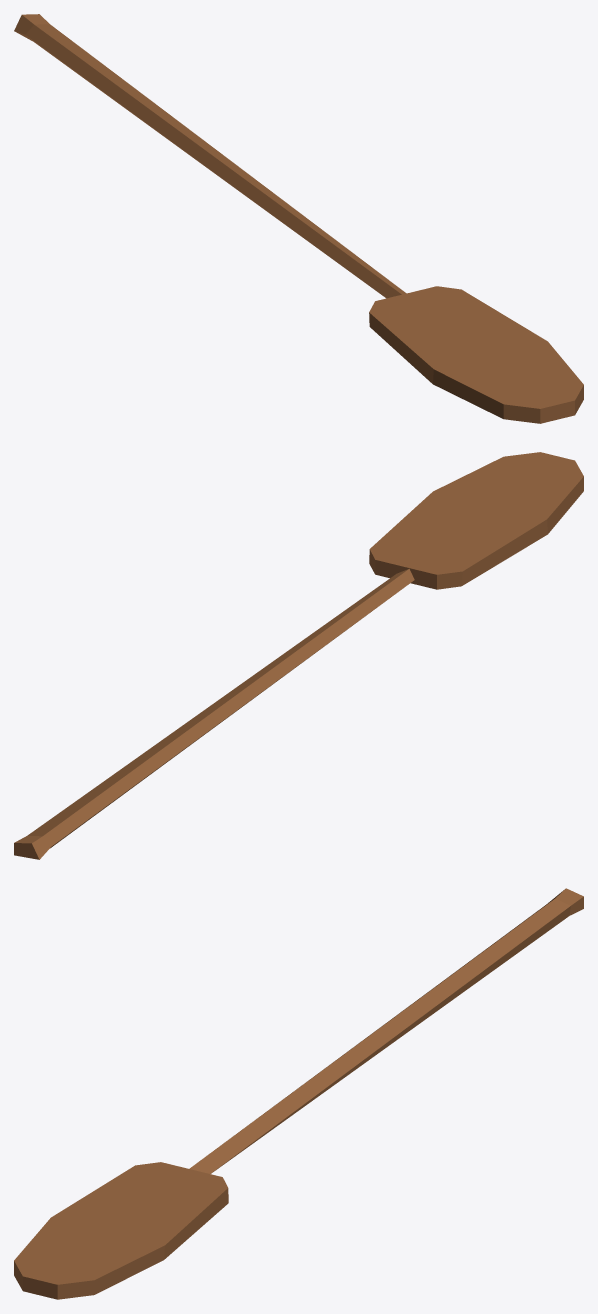
Rendered from Paddle.fbx.
3 views of the same model, one above another, from view 1: azimuth 30°, elevation 25°; view 2: azimuth 150°, elevation 25°; view 3: azimuth 330°, elevation 25° (orthographic).
Visible parts, largest first — view 1: Paddle; view 2: Paddle; view 3: Paddle.
Boxes of the visible parts, x1,y1,x2,y2 form: Paddle: (14,14,583,423); Paddle: (14,452,583,859); Paddle: (14,888,583,1299).
Size of the model in its own units: 29.57 by 4.59 by 237.
